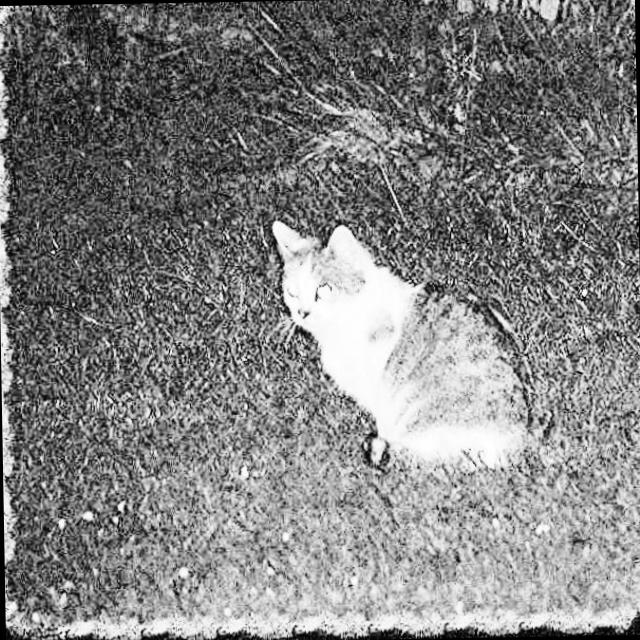Cat: (262, 195, 556, 518)
